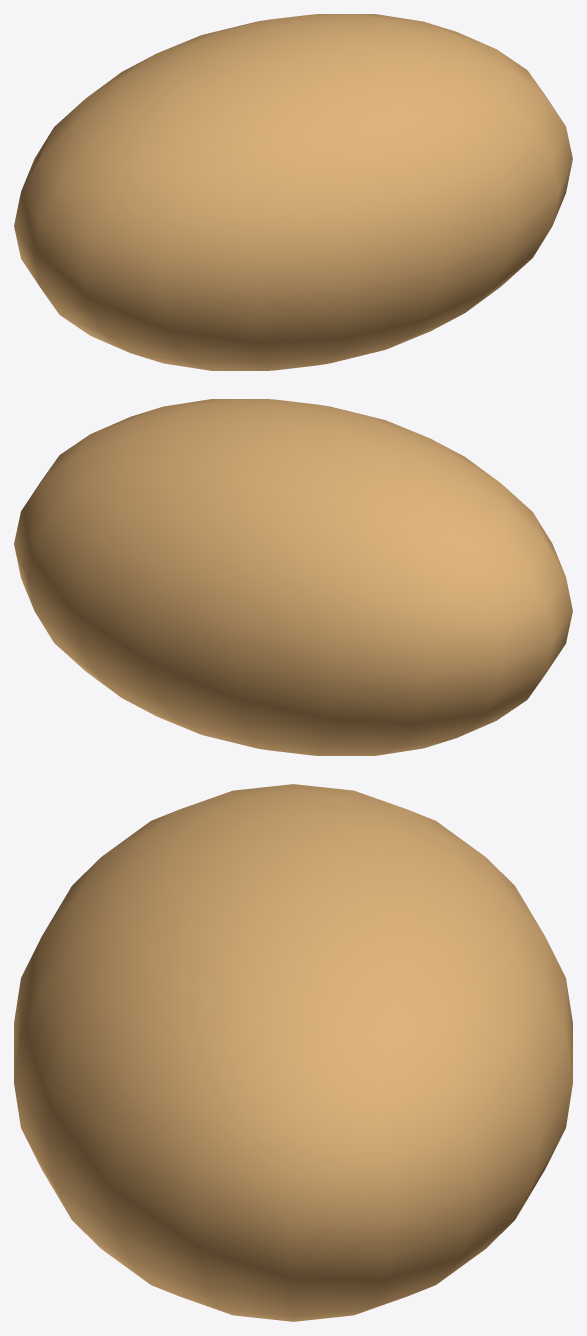
The model's file is corpse-resource.glb.
3 renders of one model, top to bottom at view 1: azimuth 30°, elevation 25°; view 2: azimuth 150°, elevation 25°; view 3: azimuth 270°, elevation 25°, orthographic. The views are drawn at different scales.
Visible parts, largest first — view 1: meat; view 2: meat; view 3: meat.
Part boxes in pixels (x1=…): meat: x1=14, y1=14, x2=572, y2=370; meat: x1=14, y1=399, x2=572, y2=755; meat: x1=14, y1=784, x2=572, y2=1321.
Bounding box in the file's own units: 1.14 × 0.6336 × 0.78.
